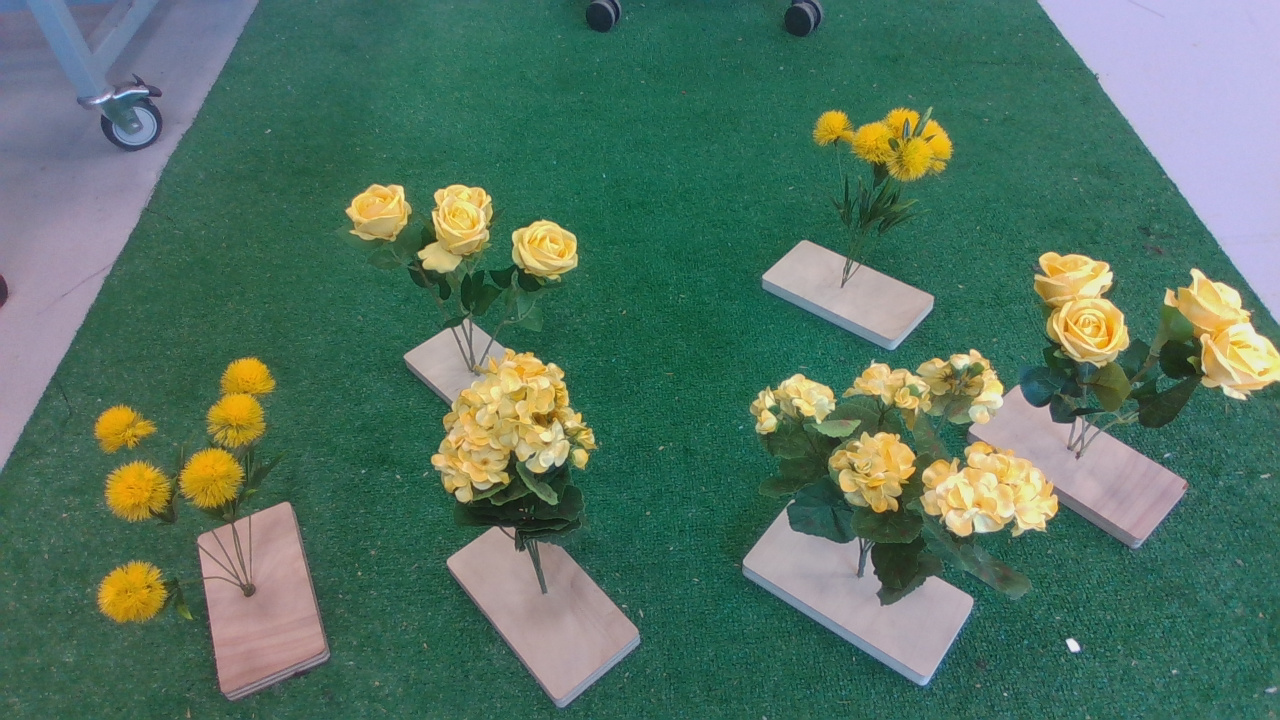dandelion: (87, 347, 302, 633), (794, 102, 965, 244)
geranium: (749, 350, 1067, 601), (430, 352, 603, 551)
rose: (1023, 237, 1280, 444), (341, 177, 591, 342)
